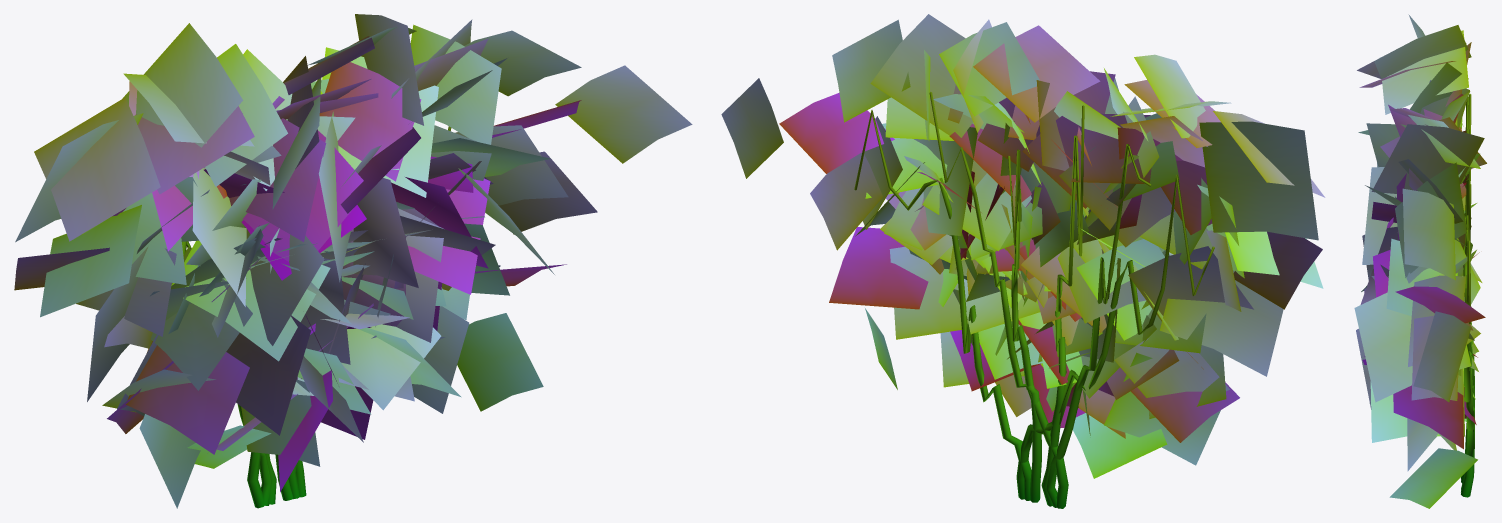
The model's file is bougainvillea_wall.glb.
3 views of the same model, side by side, from view 1: azimuth 30°, elevation 25°; view 2: azimuth 150°, elevation 25°; view 3: azimuth 270°, elevation 25° (orthographic). The views are drawn at different scales.
Visible parts, largest first — view 1: bougainvillea_wall_leaves, bougainvillea_wall_stems; view 2: bougainvillea_wall_leaves, bougainvillea_wall_stems; view 3: bougainvillea_wall_leaves, bougainvillea_wall_stems.
Boxes of the visible parts, x1,y1,x2,y2 form: bougainvillea_wall_leaves: [14, 14, 692, 508]; bougainvillea_wall_stems: [182, 126, 451, 508]; bougainvillea_wall_leaves: [721, 14, 1325, 478]; bougainvillea_wall_stems: [854, 92, 1214, 508]; bougainvillea_wall_leaves: [1354, 14, 1486, 508]; bougainvillea_wall_stems: [1461, 94, 1474, 497].
Bounding box in the file's own units: 4.66 × 3.39 × 0.962.
